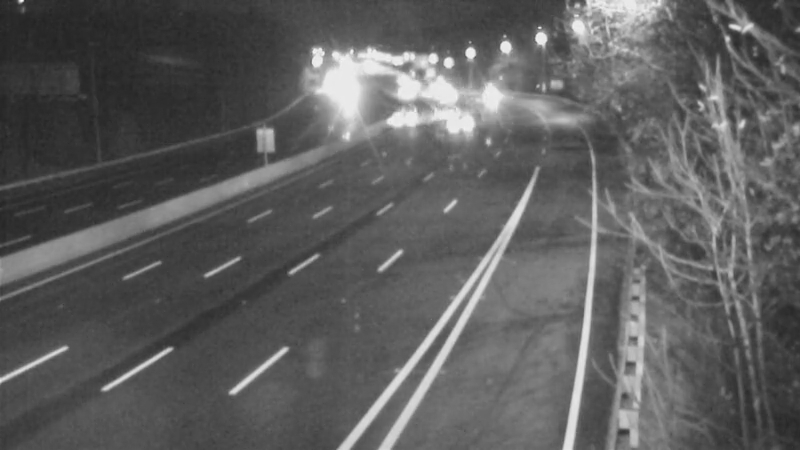vehicle: (383, 66, 433, 116), (422, 71, 472, 121), (465, 70, 515, 120), (415, 89, 465, 139), (443, 94, 493, 144), (374, 94, 424, 144)
